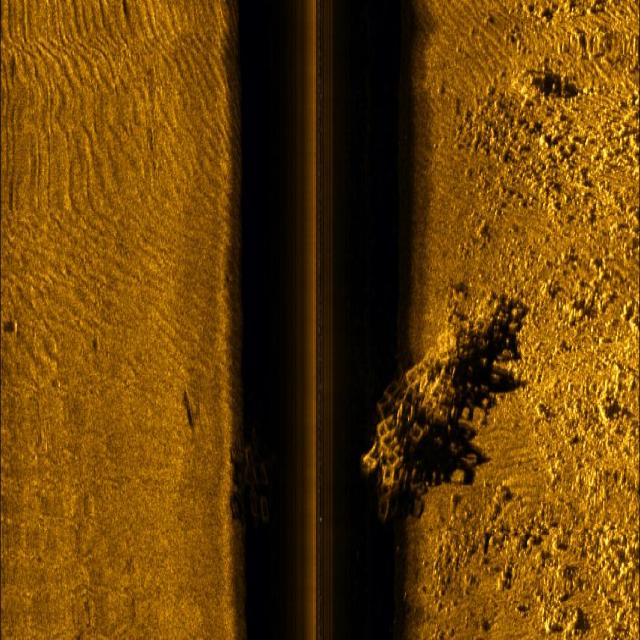artificial reef: (350, 275, 523, 520), (225, 424, 274, 538)
